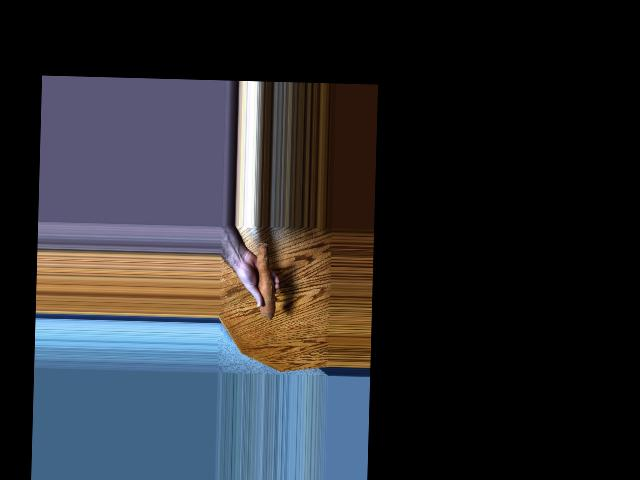sweet_potato: (253, 239, 279, 321)
